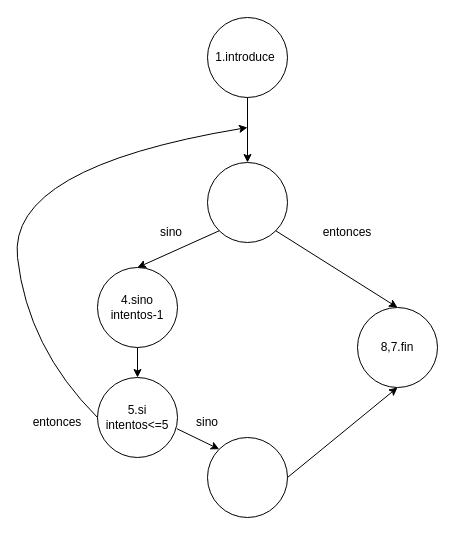
Some shapes in this 456 by 535 pixel diagram are drawn without their labels. Each missing label, with the box of its shape:
3,2.si: (206, 162, 288, 242)
6.no los has logrado: (206, 436, 288, 518)
